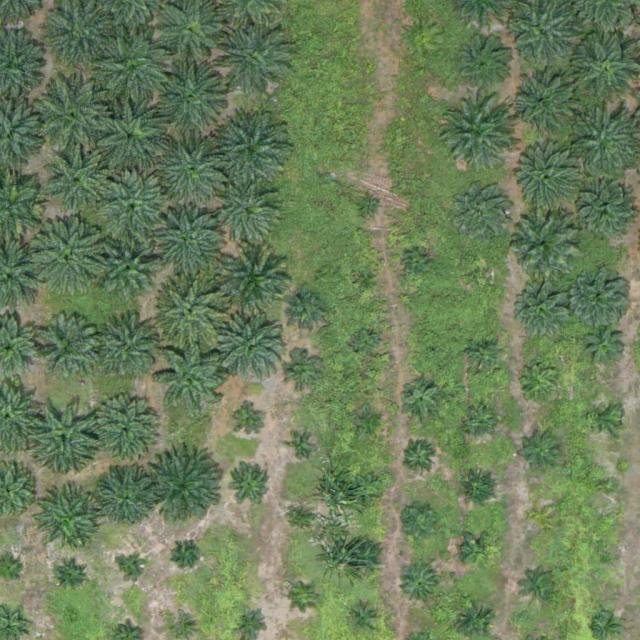Healthy: (33, 78, 111, 157), (93, 35, 171, 114), (89, 99, 167, 178), (94, 176, 172, 255), (149, 207, 227, 286), (154, 136, 232, 215), (151, 61, 229, 140), (214, 22, 292, 101), (212, 112, 290, 191), (219, 250, 297, 329), (437, 94, 515, 173), (28, 399, 106, 478), (32, 220, 110, 298), (150, 450, 228, 528), (506, 209, 577, 279), (158, 276, 228, 347), (157, 342, 228, 412), (88, 395, 158, 466), (31, 489, 101, 560), (511, 144, 581, 214), (218, 317, 288, 387), (47, 152, 110, 215), (514, 74, 577, 137), (575, 181, 638, 244), (572, 266, 635, 329), (94, 465, 157, 528), (160, 3, 223, 65), (219, 184, 281, 247), (450, 181, 512, 244), (98, 318, 160, 381), (35, 318, 97, 381), (100, 244, 155, 300), (457, 34, 512, 89), (518, 286, 572, 341), (354, 476, 385, 508)
Small: (227, 460, 274, 507), (395, 500, 442, 547), (458, 467, 498, 507), (400, 565, 439, 605), (524, 568, 563, 608), (288, 290, 327, 330), (401, 379, 440, 419), (522, 364, 561, 404), (347, 540, 386, 579), (282, 352, 321, 391), (522, 433, 561, 472), (465, 336, 504, 375), (586, 325, 625, 364), (350, 605, 381, 637), (236, 408, 267, 440), (590, 402, 621, 434), (463, 536, 494, 567), (56, 560, 87, 591), (405, 443, 436, 474), (464, 406, 495, 437), (237, 608, 268, 639), (295, 586, 319, 610), (175, 541, 199, 565), (354, 330, 378, 354), (356, 269, 380, 293), (357, 195, 381, 219), (358, 409, 382, 433), (123, 557, 146, 581), (472, 266, 496, 289), (408, 253, 431, 277), (290, 438, 313, 461), (293, 506, 316, 529), (600, 477, 616, 493), (600, 550, 616, 565), (535, 511, 550, 527), (427, 347, 442, 362)
